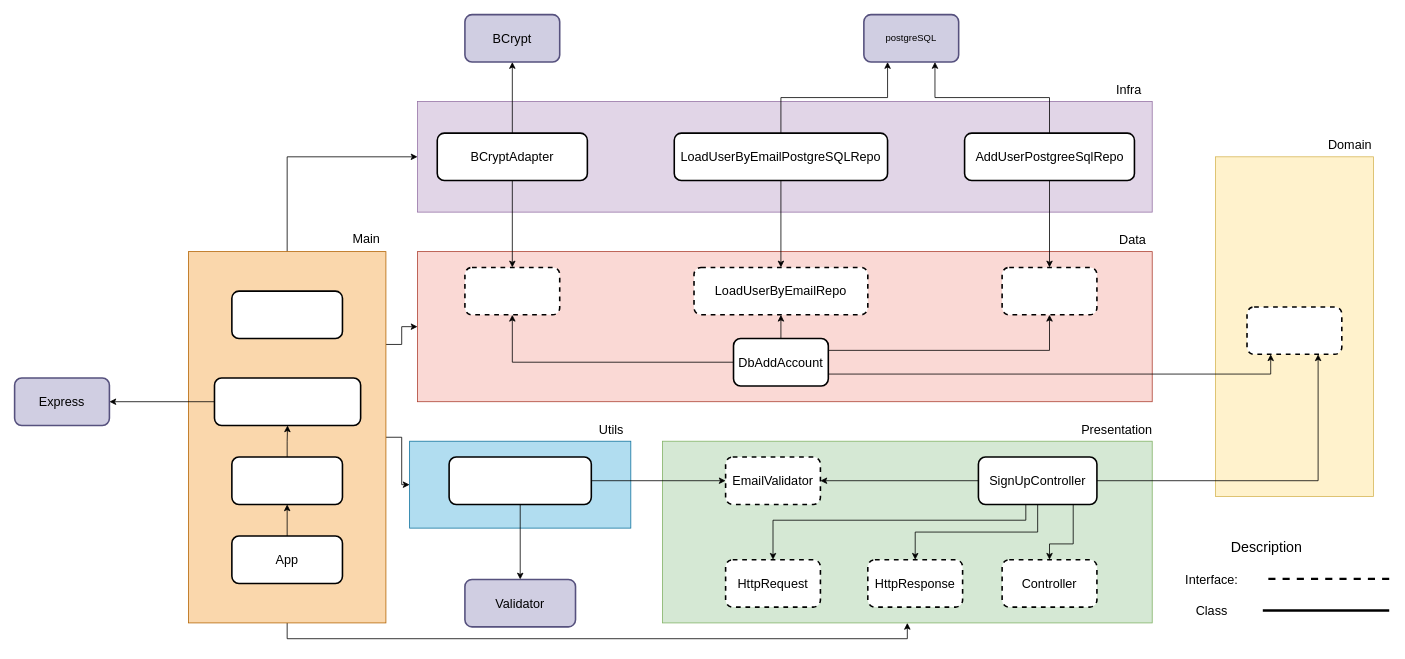
The diagram is 1405 pixels wide and 659 high, and some of its shapes have lost their labels. Each missing label, with the centre of its shape:
AddAccount: (1294,330)
AddUserRepo: (1049,290)
EmailValidatorAdapter: (520,480)
Encrypter: (512,290)
ExpressRouterAdapter: (287,401)
SignUpComposer: (287,314)
SignUpRouter: (287,480)
